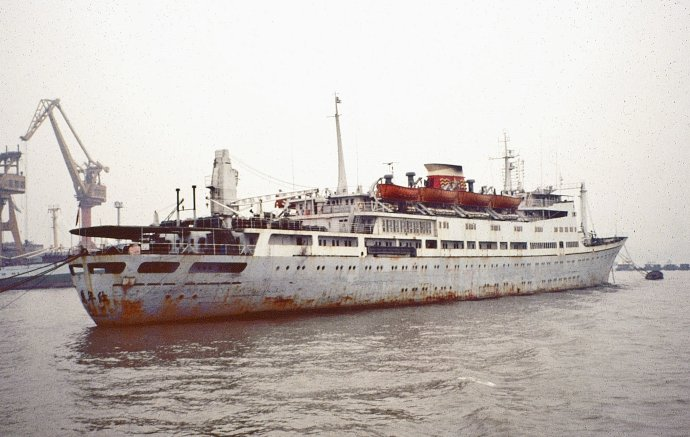youlun: (59, 156, 624, 328)
